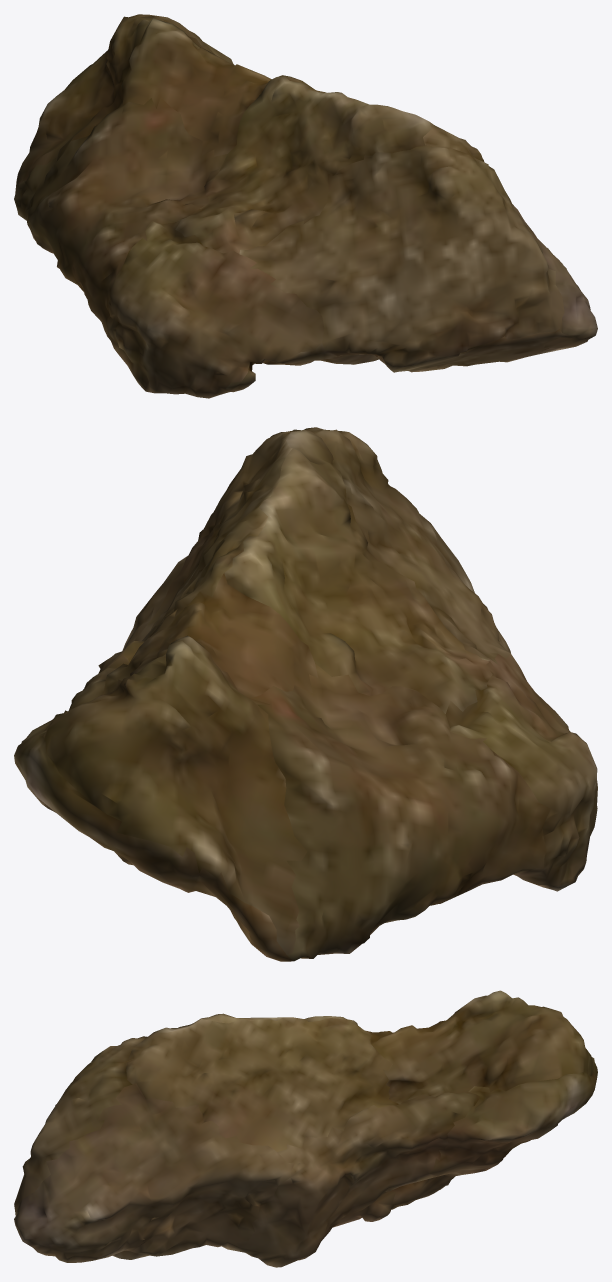
The model's file is rock-a.glb.
The picture shows the model from 3 angles, top to bottom: view 1: azimuth 30°, elevation 25°; view 2: azimuth 150°, elevation 25°; view 3: azimuth 270°, elevation 25°; orthographic projection. The views are drawn at different scales.
Parts seen in each view (by area): view 1: rock_moss_set_01_rock01; view 2: rock_moss_set_01_rock01; view 3: rock_moss_set_01_rock01.
Part boxes in pixels (x1,y1,x2,y2): rock_moss_set_01_rock01: (14, 14, 597, 398); rock_moss_set_01_rock01: (14, 427, 597, 961); rock_moss_set_01_rock01: (14, 990, 597, 1267).
Bounding box in the file's own units: 1.98 × 1.3 × 2.97.
1 material, 1 textured.
